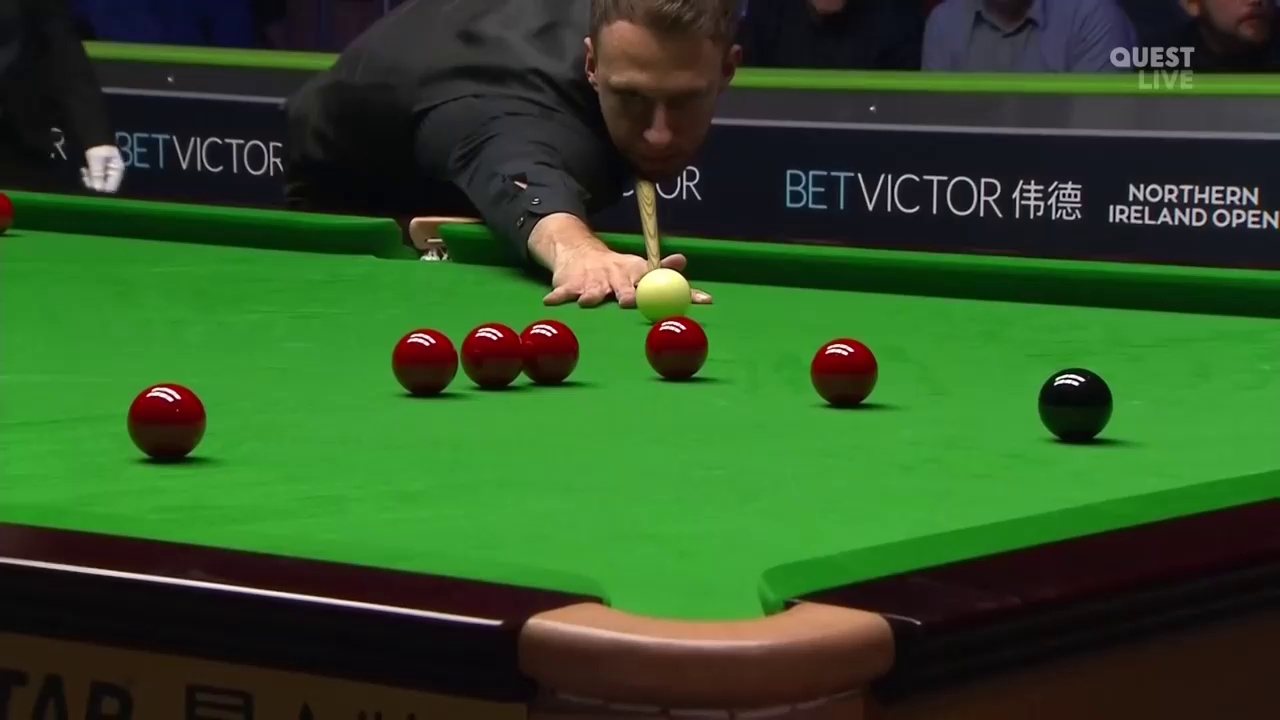black: (1036, 367, 1112, 443)
red: (125, 385, 206, 458), (391, 326, 457, 392), (810, 337, 876, 402), (457, 321, 519, 387), (520, 321, 579, 381), (647, 323, 707, 380)
white: (638, 270, 692, 317)
